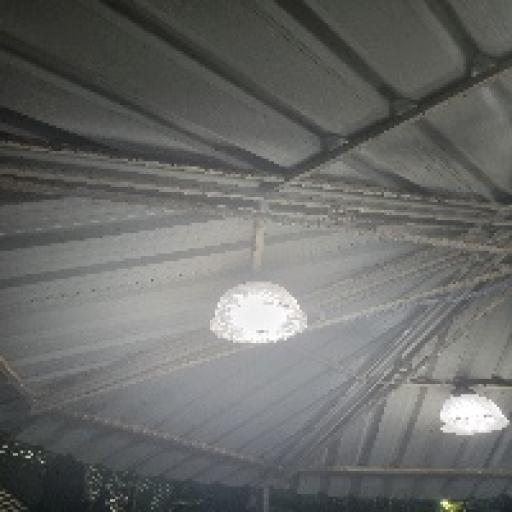Working: (209, 278, 317, 349), (432, 391, 512, 439)
